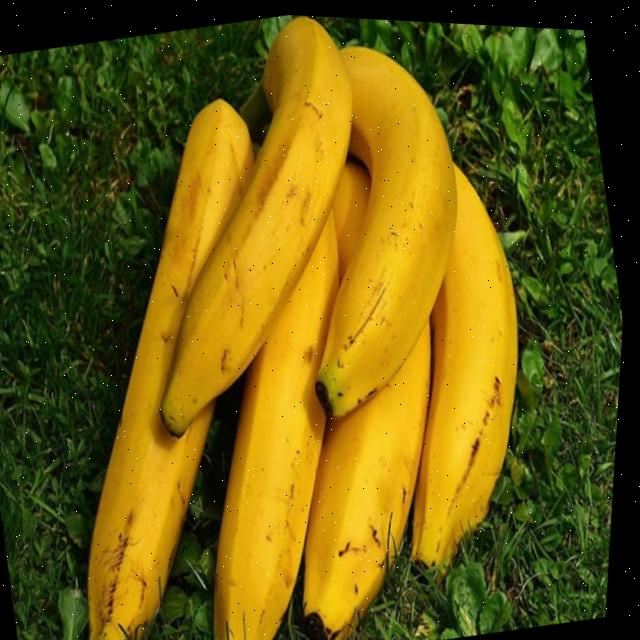Banana: (95, 98, 255, 640), (165, 14, 353, 433), (221, 208, 342, 640), (321, 42, 460, 413), (418, 161, 522, 561), (311, 319, 435, 640)
